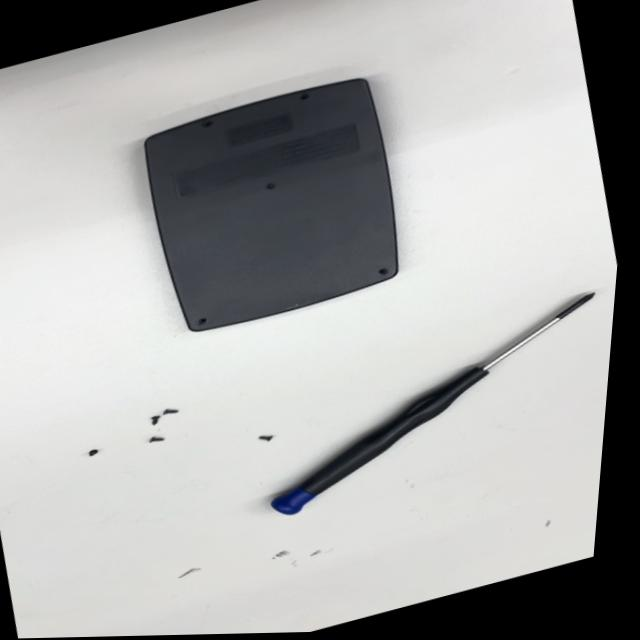back_cover: (116, 65, 431, 345)
screw: (142, 410, 168, 431), (158, 401, 183, 419), (79, 442, 104, 459), (148, 430, 170, 447), (255, 430, 278, 446)
screw_driver: (239, 286, 616, 522)
